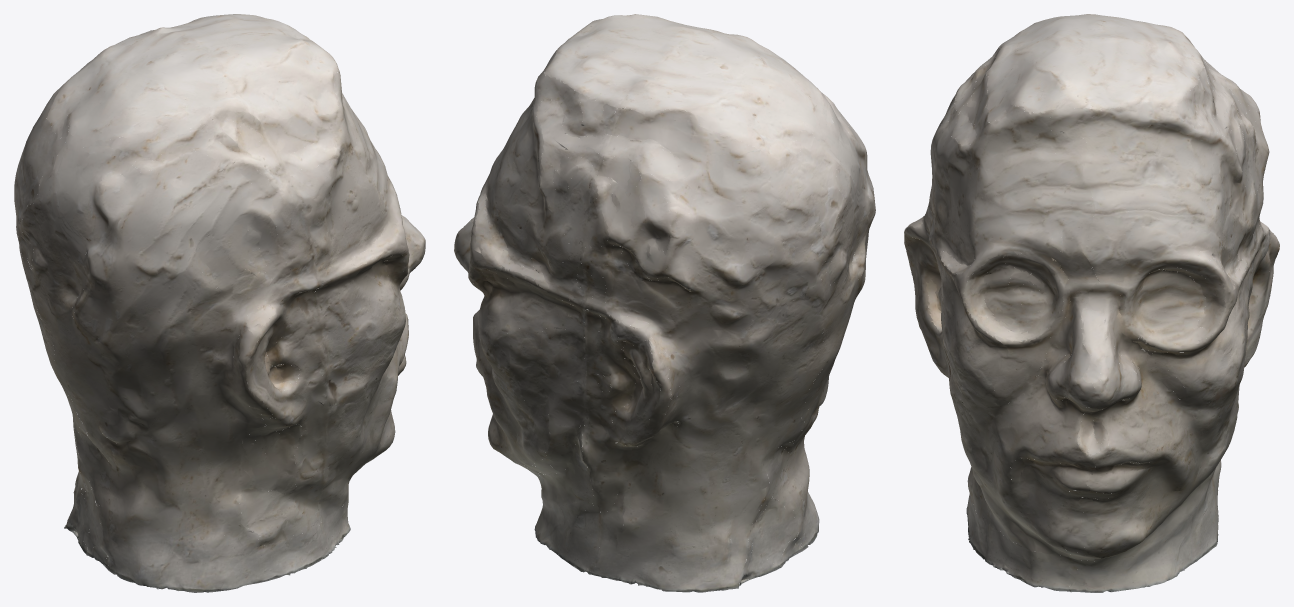
File: gimku.glb
3 views of the same model, side by side, from view 1: azimuth 30°, elevation 25°; view 2: azimuth 150°, elevation 25°; view 3: azimuth 270°, elevation 25° (orthographic).
Parts seen in each view (by area): view 1: Mesh_0_Part_0; view 2: Mesh_0_Part_0; view 3: Mesh_0_Part_0.
Boxes of the visible parts, left/top/right/bottom form: Mesh_0_Part_0: left=14, top=14, right=425, bottom=592; Mesh_0_Part_0: left=454, top=14, right=875, bottom=592; Mesh_0_Part_0: left=904, top=14, right=1279, bottom=592.
Size of the model in its own units: 1.99 by 2.41 by 1.66.
Materials: 1 (1 with a texture image).
